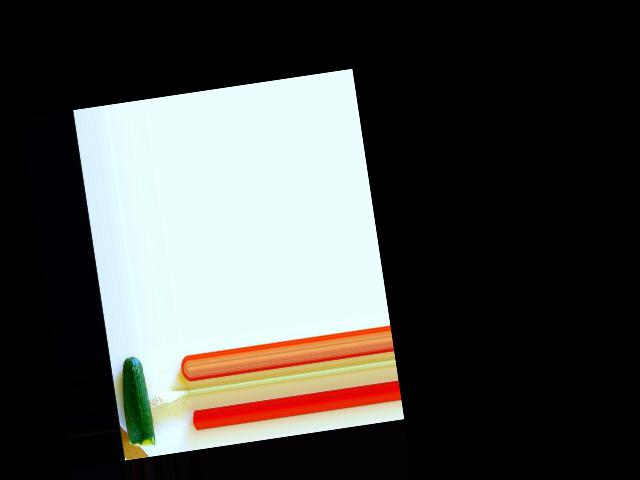cucumber: (116, 354, 155, 448)
